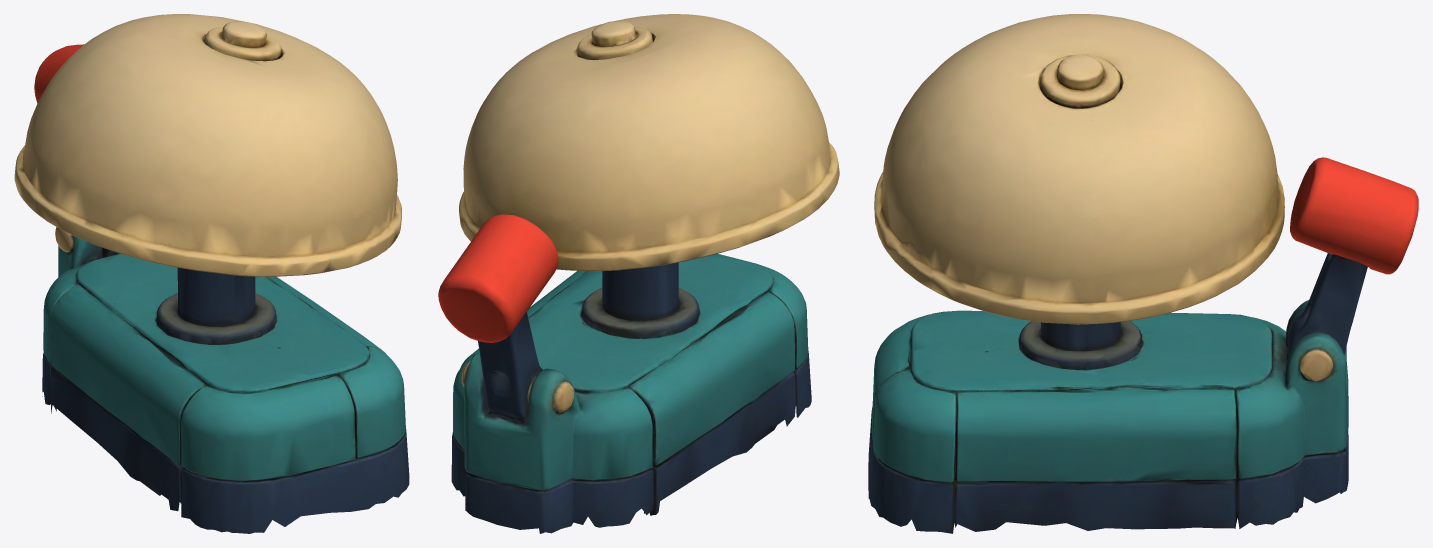
The model's file is bell.glb.
3 renders of one model, left to right at view 1: azimuth 30°, elevation 25°; view 2: azimuth 150°, elevation 25°; view 3: azimuth 270°, elevation 25°, orthographic. The views are drawn at different scales.
Visible parts, largest first — view 1: tripo_node_c663d380-5f29-499c-ade9-95a874612347; view 2: tripo_node_c663d380-5f29-499c-ade9-95a874612347; view 3: tripo_node_c663d380-5f29-499c-ade9-95a874612347.
Part boxes in pixels (bbox=[...]): tripo_node_c663d380-5f29-499c-ade9-95a874612347: bbox=[14, 14, 409, 533]; tripo_node_c663d380-5f29-499c-ade9-95a874612347: bbox=[438, 14, 839, 533]; tripo_node_c663d380-5f29-499c-ade9-95a874612347: bbox=[868, 14, 1418, 533].
Bounding box in the file's own units: 0.6118 × 0.7302 × 0.8476.
1 material, 1 textured.
